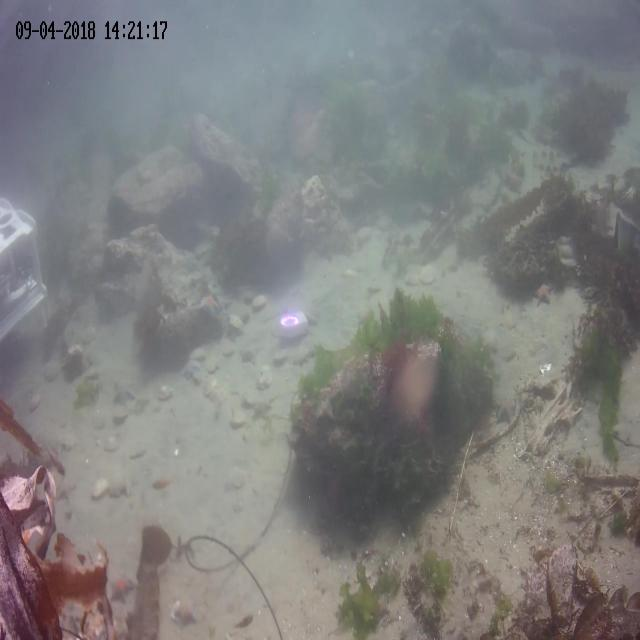scallop: (42, 362, 62, 386), (251, 288, 269, 314), (228, 310, 246, 334), (419, 265, 438, 286), (219, 336, 237, 358), (90, 478, 108, 500), (156, 383, 174, 403), (102, 434, 120, 453), (356, 225, 372, 246), (228, 411, 246, 429), (272, 347, 290, 363)
starfish: (110, 570, 136, 602), (495, 394, 519, 426), (112, 375, 135, 406), (175, 593, 197, 623), (250, 393, 274, 419), (480, 326, 500, 356), (533, 278, 554, 306), (54, 477, 76, 502), (198, 293, 220, 318), (181, 358, 202, 382), (240, 344, 260, 365)
